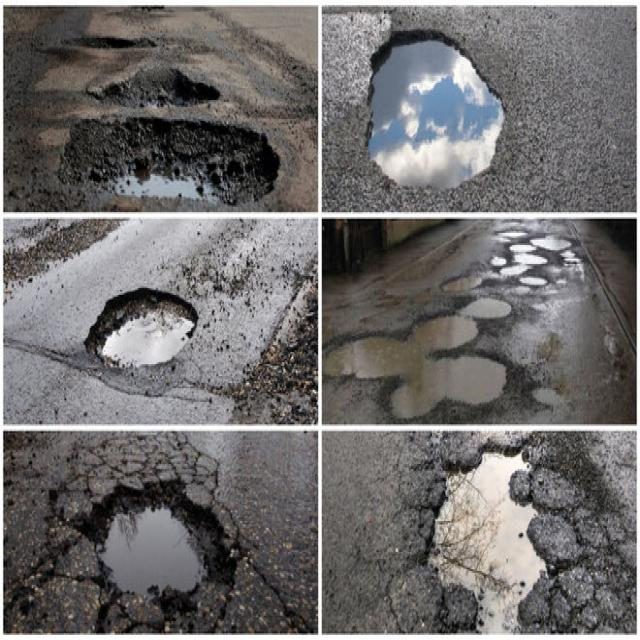Pothole: (329, 236, 606, 419), (38, 26, 289, 221), (398, 438, 586, 635), (58, 467, 267, 640), (347, 16, 523, 212), (61, 262, 236, 383)
